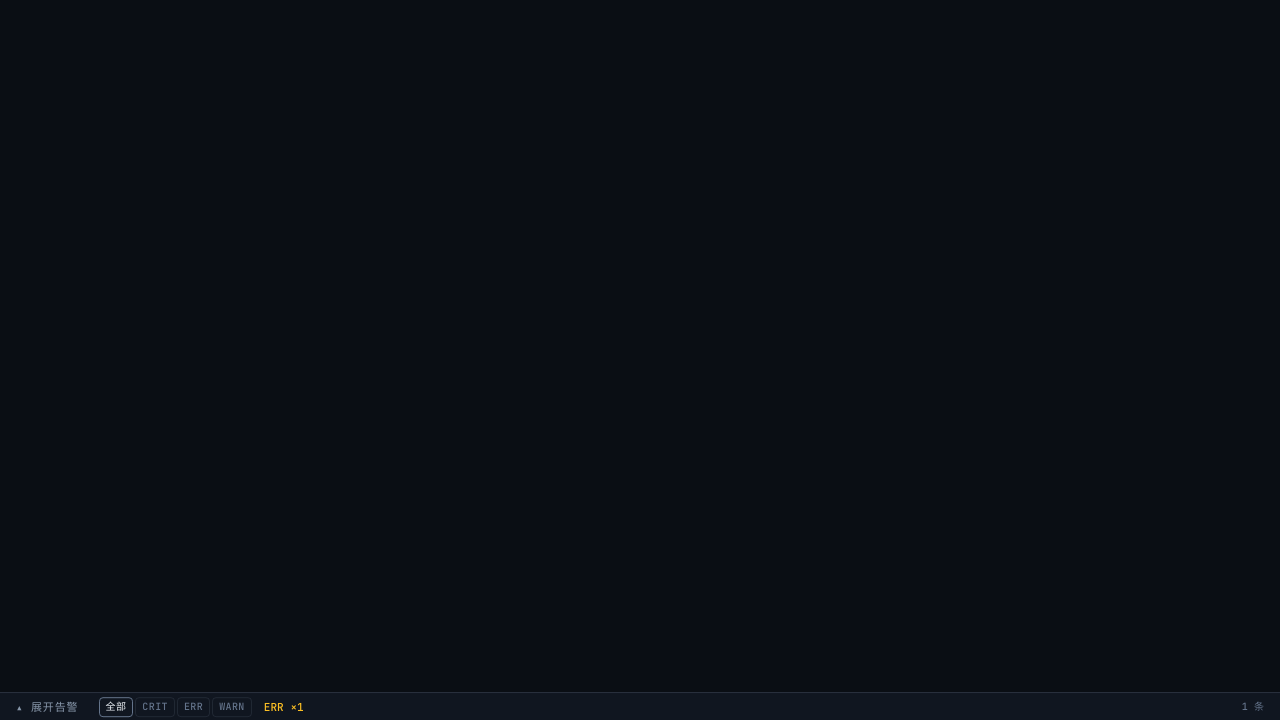
Test: StatusDrawer — row expansion › expands a row on click to show the detail fields
Note: Open the drawer so the body is in the rendered tree.
Click the button "▴ 展开告警": click(47, 708) top-left (16, 699), bottom-right (78, 716)
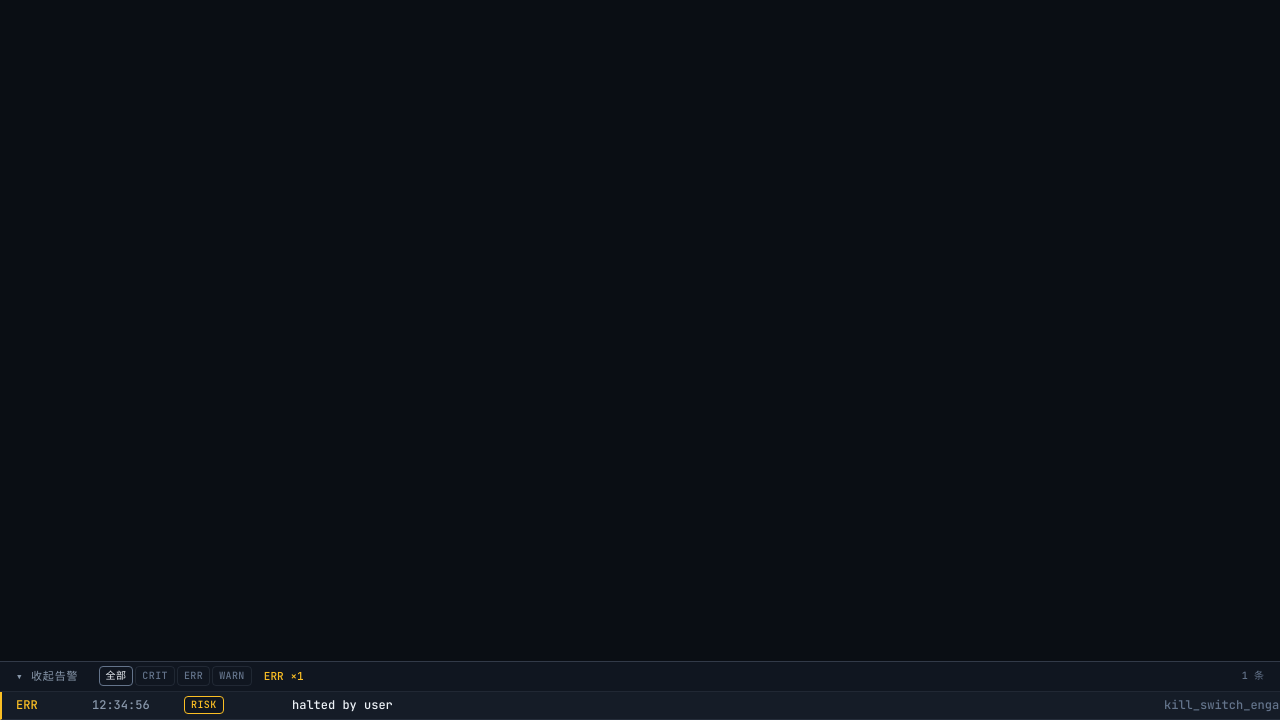
Click the button "ERR 12:34:56 risk halted by user kill_switch_engaged": click(121, 705) top-left (0, 692), bottom-right (1279, 719)
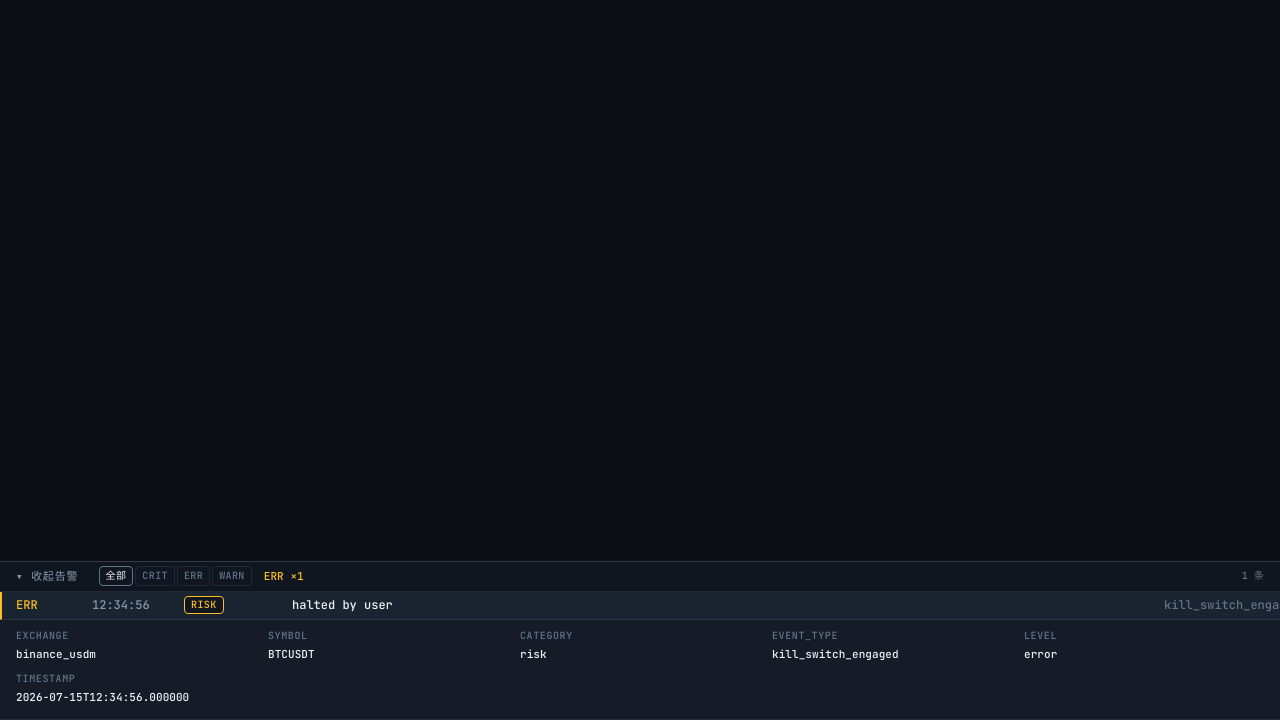
Expected: the text "binance_usdm" is shown, top-left (16, 647), bottom-right (96, 661)
Expected: the text "BTCUSDT" is shown, top-left (268, 647), bottom-right (315, 661)
Expected: the text "risk" below "category" is shown, top-left (520, 647), bottom-right (547, 661)
